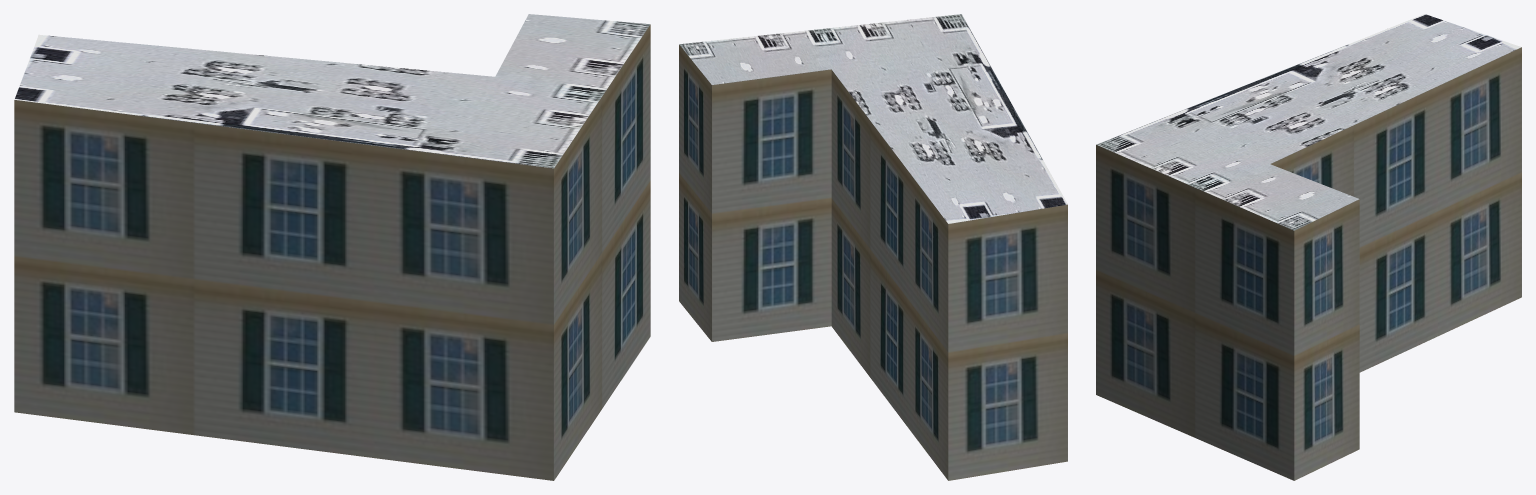
Rendered from ResTex__1423.fbx.
3 views of the same model, side by side, from view 1: azimuth 30°, elevation 25°; view 2: azimuth 150°, elevation 25°; view 3: azimuth 270°, elevation 25° (orthographic). The views are drawn at different scales.
Visible parts, largest first — view 1: CityEngineMaterial_7_m, CityEngineMaterial_4_m; view 2: CityEngineMaterial_7_m, CityEngineMaterial_4_m; view 3: CityEngineMaterial_7_m, CityEngineMaterial_4_m.
Part boxes in pixels (<box>): CityEngineMaterial_7_m: <box>14,24,650,480</box>; CityEngineMaterial_4_m: <box>14,14,649,168</box>; CityEngineMaterial_7_m: <box>679,44,1067,480</box>; CityEngineMaterial_4_m: <box>679,14,1067,223</box>; CityEngineMaterial_7_m: <box>1096,47,1521,480</box>; CityEngineMaterial_4_m: <box>1096,14,1521,230</box>.
Bounding box in the file's own units: 11.14 × 6 × 9.25.
2 materials, 2 textured.
